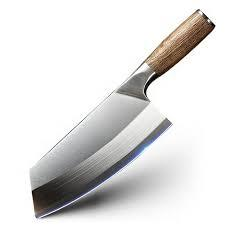Knife: (28, 8, 215, 218)
